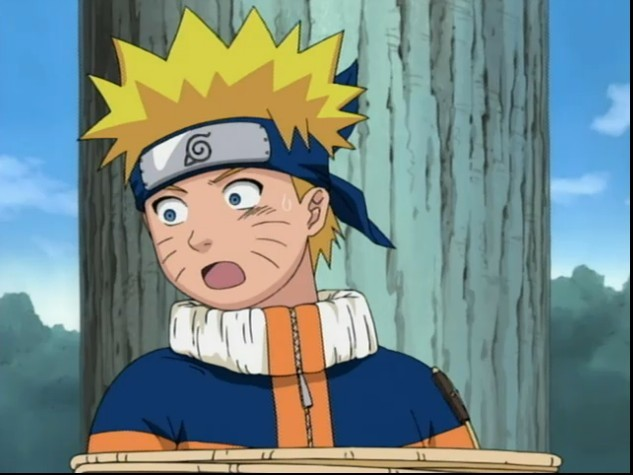naruto: (117, 115, 341, 313)
